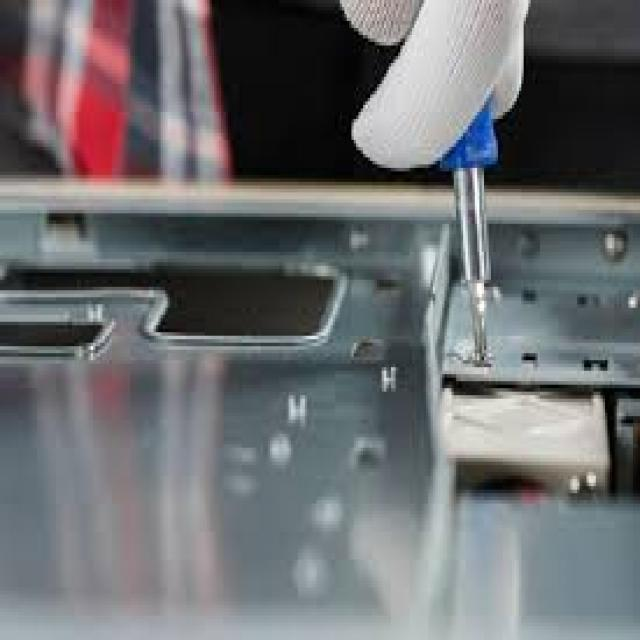screwdriver: (429, 51, 514, 366)
